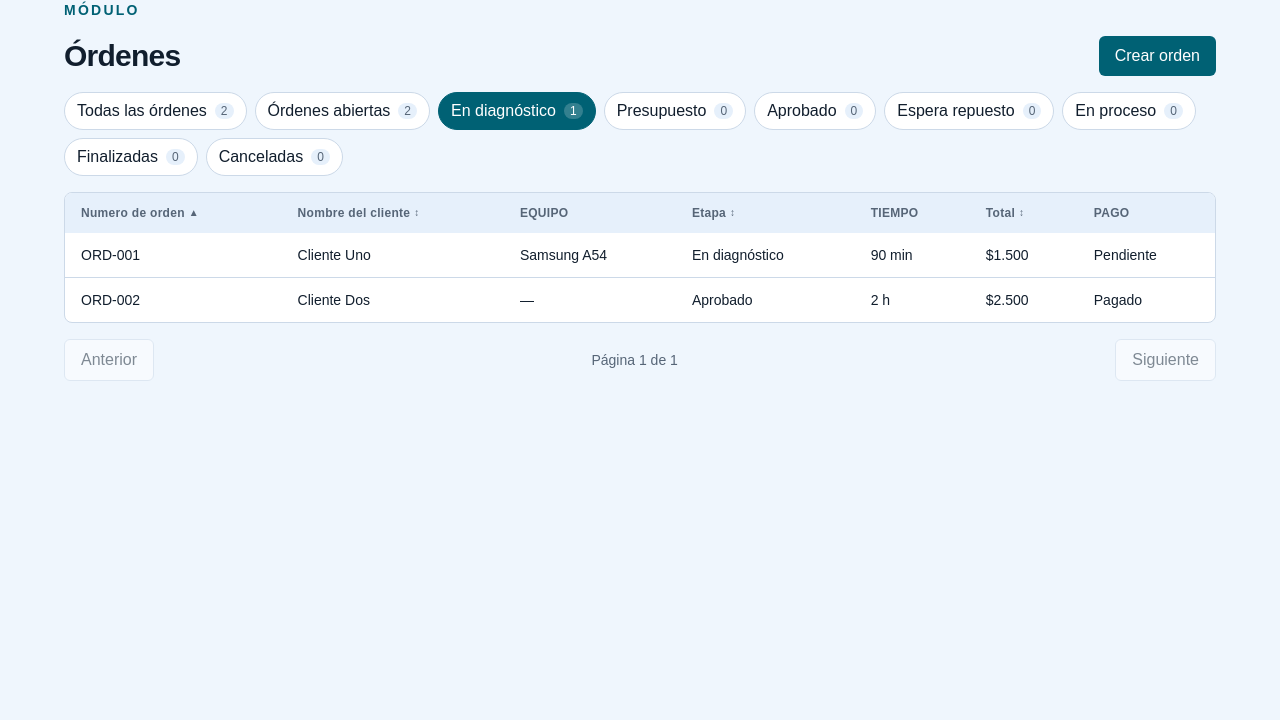
Scenario: OrdenesPage › imprime 2 copias sin secretos al elegir una orden
This screenshot has width=1280, height=720.
What coordinates should you click on to do the following:
click the text "ORD-001"
I would click on:
 (111, 255)
Its box is [65, 233, 282, 278].
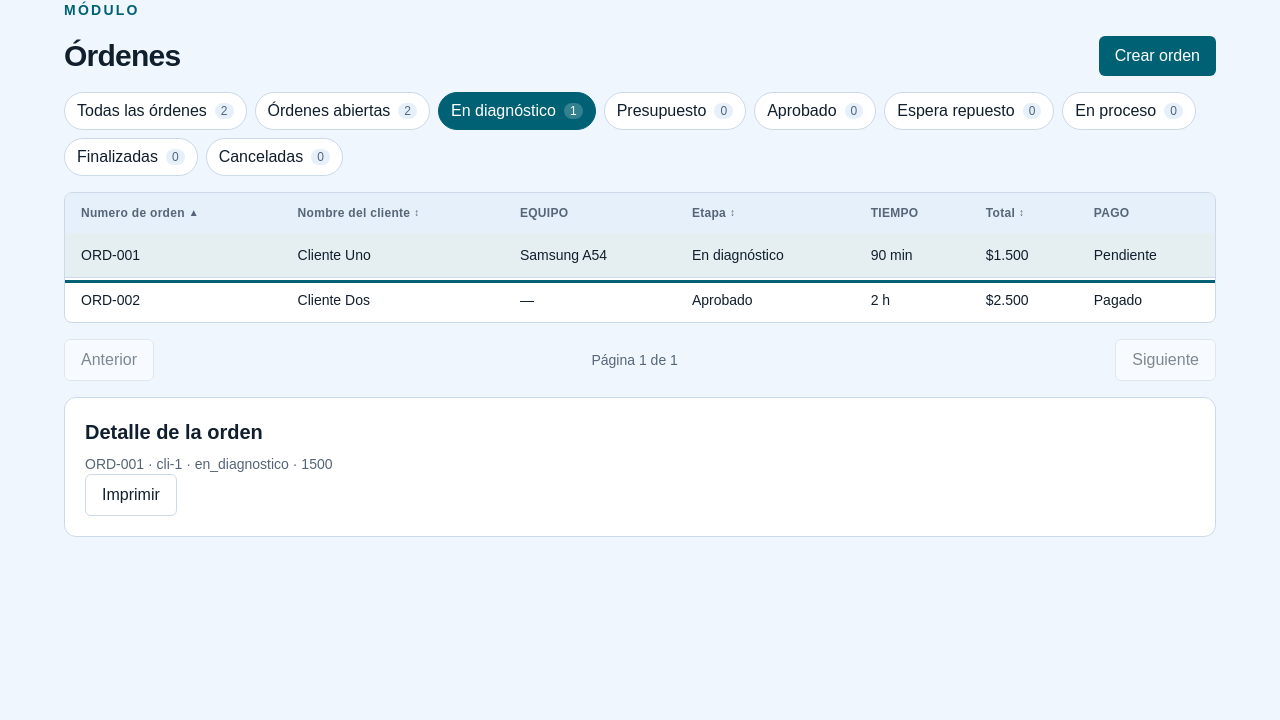
What coordinates should you click on to do the following:
click the button "Imprimir"
I would click on:
 (131, 495)
Its box is [85, 474, 177, 516].
(page scrolled)
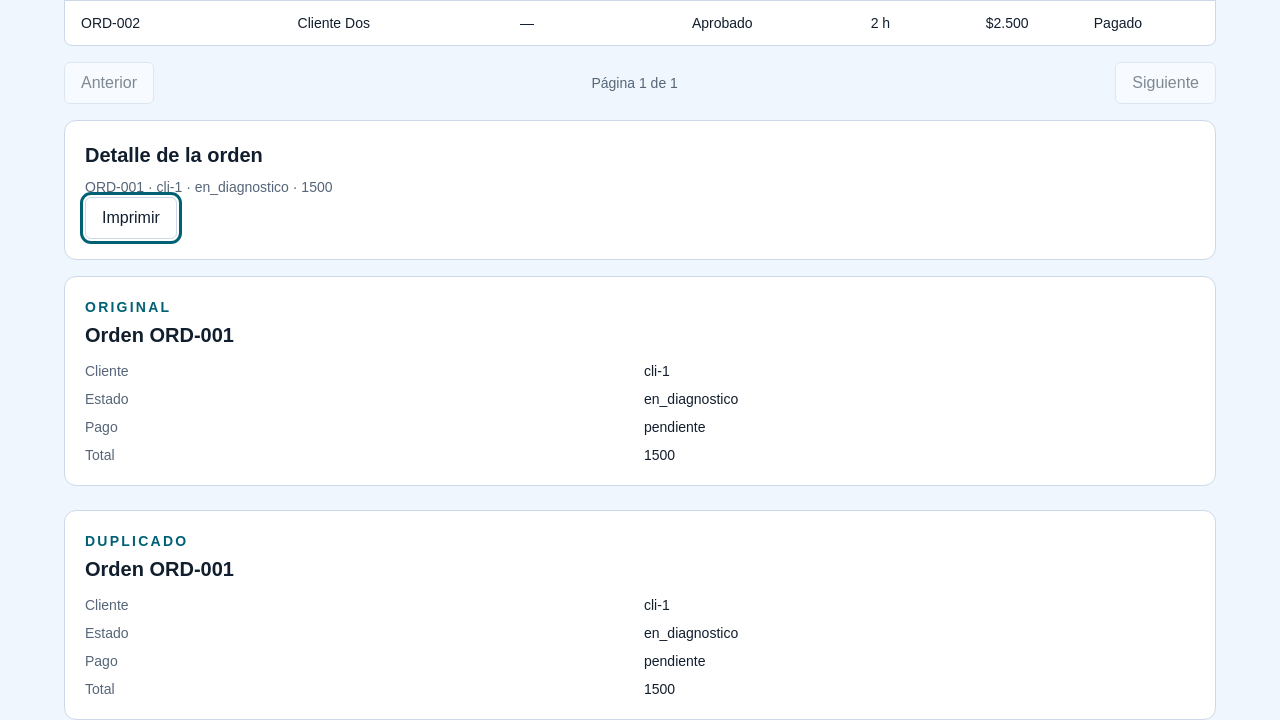
Check: the text "Original" is shown, box [85, 299, 171, 315]
Check: the text "Duplicado" is shown, box [85, 533, 188, 549]
